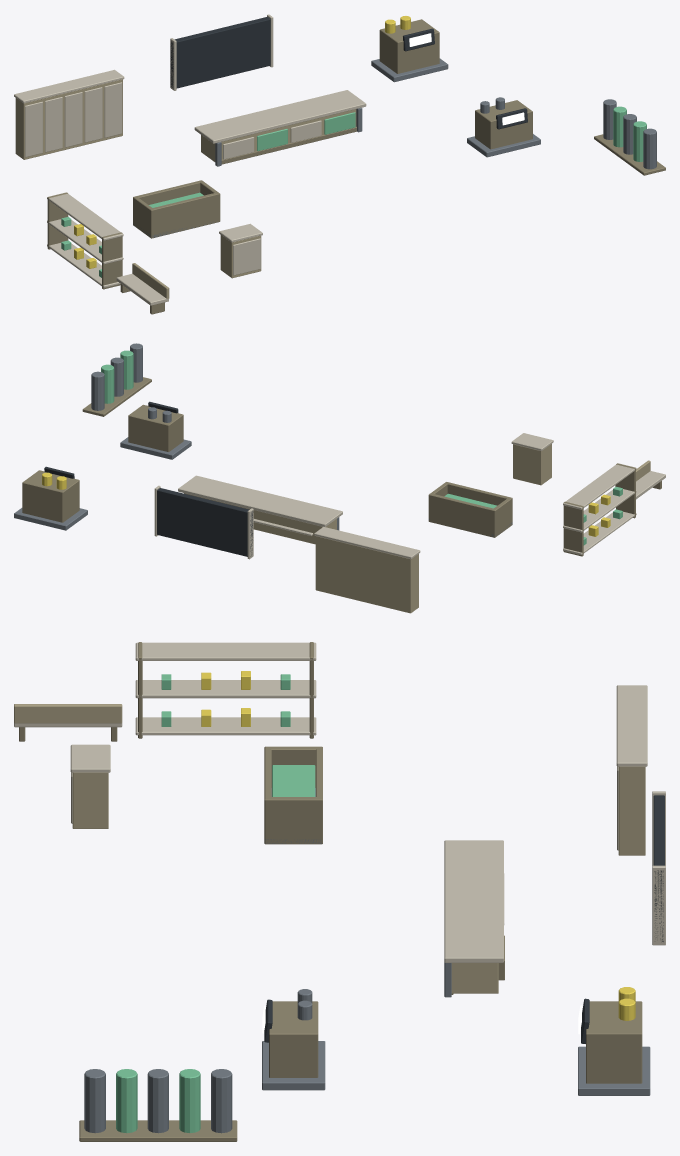
The model's file is clearbarrel_cleanup_yard.lod1.glb.
3 views of the same model, one above another, from view 1: azimuth 30°, elevation 25°; view 2: azimuth 150°, elevation 25°; view 3: azimuth 270°, elevation 25° (orthographic). The views are drawn at different scales.
Size of the model in its own units: 21.95 by 2.76 by 14.45.
